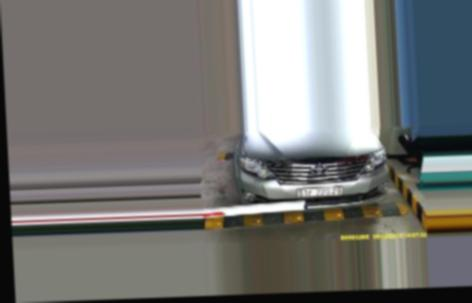License_Plate: (294, 186, 344, 197)
